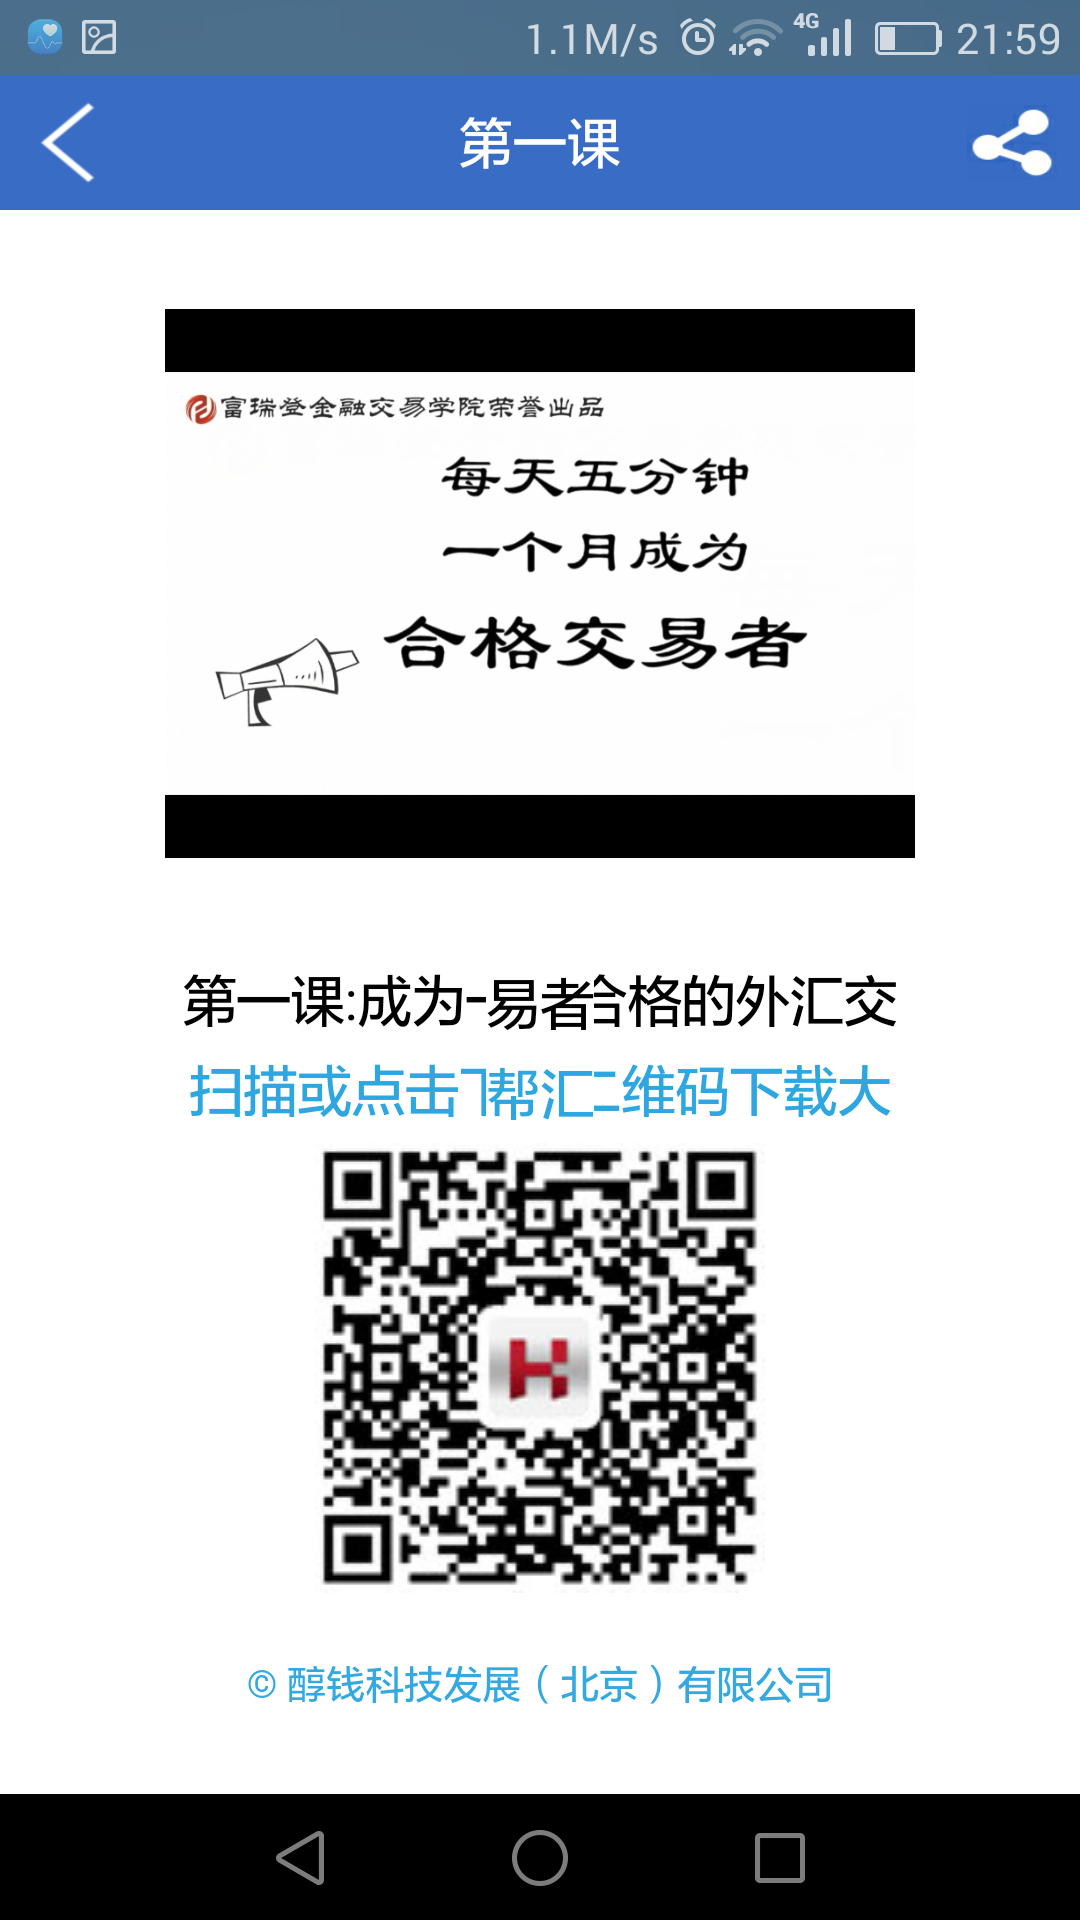imgbutton: (947, 98, 1069, 194), (28, 92, 112, 196)
imgview: (156, 301, 920, 868)
